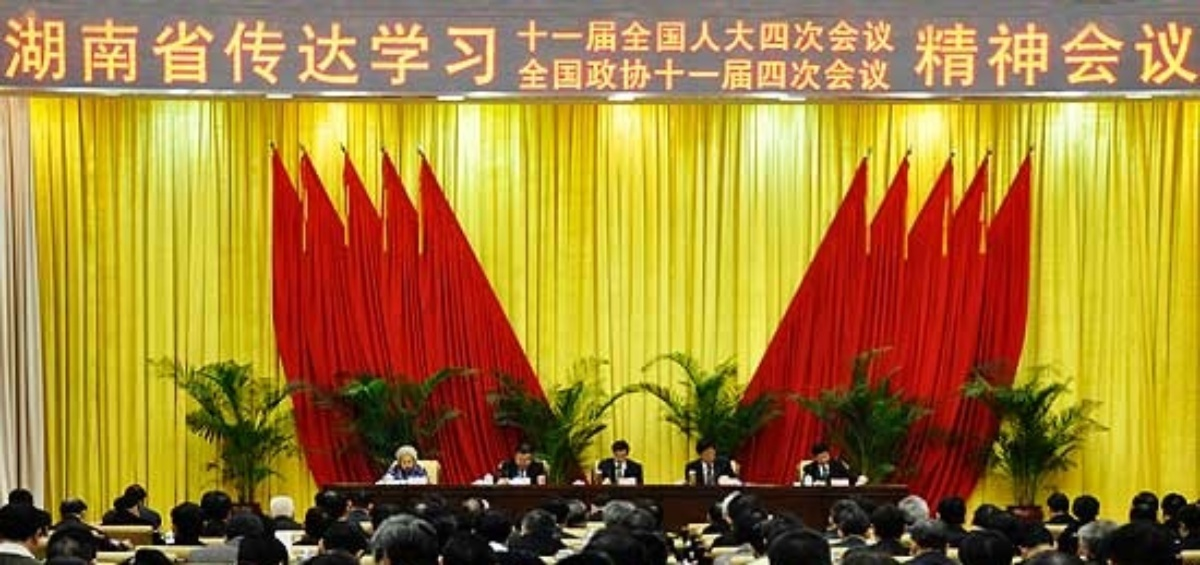text: (17, 16, 32, 88), (33, 16, 48, 88), (49, 16, 64, 88), (65, 16, 80, 88), (81, 16, 96, 88), (97, 16, 112, 88), (113, 16, 128, 88), (129, 16, 144, 88), (145, 16, 160, 88), (161, 16, 176, 88), (177, 16, 192, 88), (193, 16, 208, 88), (209, 16, 224, 88), (225, 16, 240, 88), (241, 16, 256, 88), (257, 16, 272, 88), (273, 16, 288, 88), (289, 16, 304, 88), (305, 16, 320, 88), (321, 16, 336, 88), (337, 16, 352, 88), (353, 16, 368, 88), (369, 16, 384, 88), (385, 16, 400, 88), (401, 16, 416, 88), (417, 16, 432, 88), (433, 16, 448, 88), (449, 16, 464, 88), (465, 16, 480, 88), (481, 16, 496, 88), (913, 20, 928, 90), (929, 20, 944, 90), (945, 20, 960, 90), (961, 20, 976, 90), (977, 20, 992, 90), (993, 20, 1008, 90), (1009, 20, 1024, 90), (1025, 20, 1040, 90), (1041, 20, 1056, 90), (1057, 20, 1072, 90), (1073, 20, 1088, 90), (1089, 20, 1104, 90), (1105, 20, 1120, 90), (1121, 20, 1136, 90), (1137, 20, 1152, 90), (1153, 20, 1168, 90), (1169, 20, 1184, 90), (3, 16, 16, 88), (1185, 20, 1196, 90), (529, 55, 544, 96), (545, 55, 560, 96), (561, 55, 576, 96), (577, 55, 592, 96), (593, 55, 608, 96), (609, 55, 624, 96), (625, 55, 640, 96), (641, 55, 656, 96), (657, 55, 672, 96), (673, 55, 688, 96), (689, 55, 704, 96), (705, 55, 720, 96), (721, 55, 736, 96), (737, 55, 752, 96), (753, 55, 768, 96), (769, 55, 784, 96), (785, 55, 800, 96), (801, 55, 816, 96), (817, 55, 832, 96), (833, 55, 848, 96), (849, 55, 864, 96), (865, 55, 880, 96), (881, 55, 895, 96), (515, 55, 528, 96), (513, 18, 528, 53), (529, 18, 544, 53), (545, 18, 560, 53), (561, 18, 576, 53), (577, 18, 592, 53), (593, 18, 608, 53), (609, 18, 624, 53), (625, 18, 640, 53), (641, 18, 656, 53), (657, 18, 672, 53), (673, 18, 688, 53), (689, 18, 704, 53), (705, 18, 720, 53), (721, 18, 736, 53), (737, 18, 752, 53), (753, 18, 768, 53), (769, 18, 784, 53), (785, 18, 800, 53), (801, 18, 816, 53), (817, 18, 832, 53), (833, 18, 848, 53), (849, 18, 864, 53), (865, 18, 880, 53), (881, 18, 896, 53), (908, 20, 912, 90), (497, 16, 500, 88), (897, 18, 902, 53), (509, 18, 512, 53)
